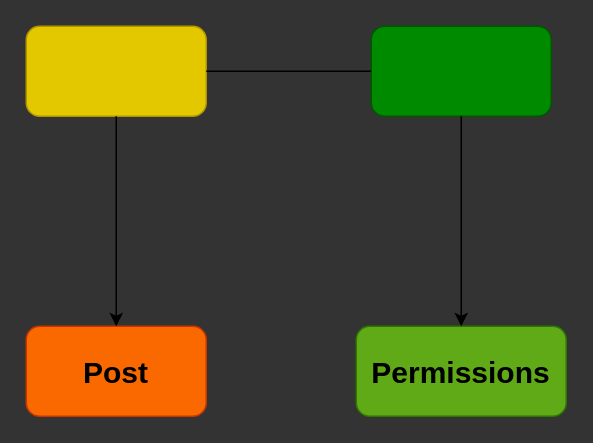
The diagram is 593 pixels wide and 443 high, and some of its shapes have lost their labels. Here are the shapes that lost their labels. From the top down, the centre of each, then its label:
At (x=115, y=70): "User".
At (x=460, y=70): "Role".
